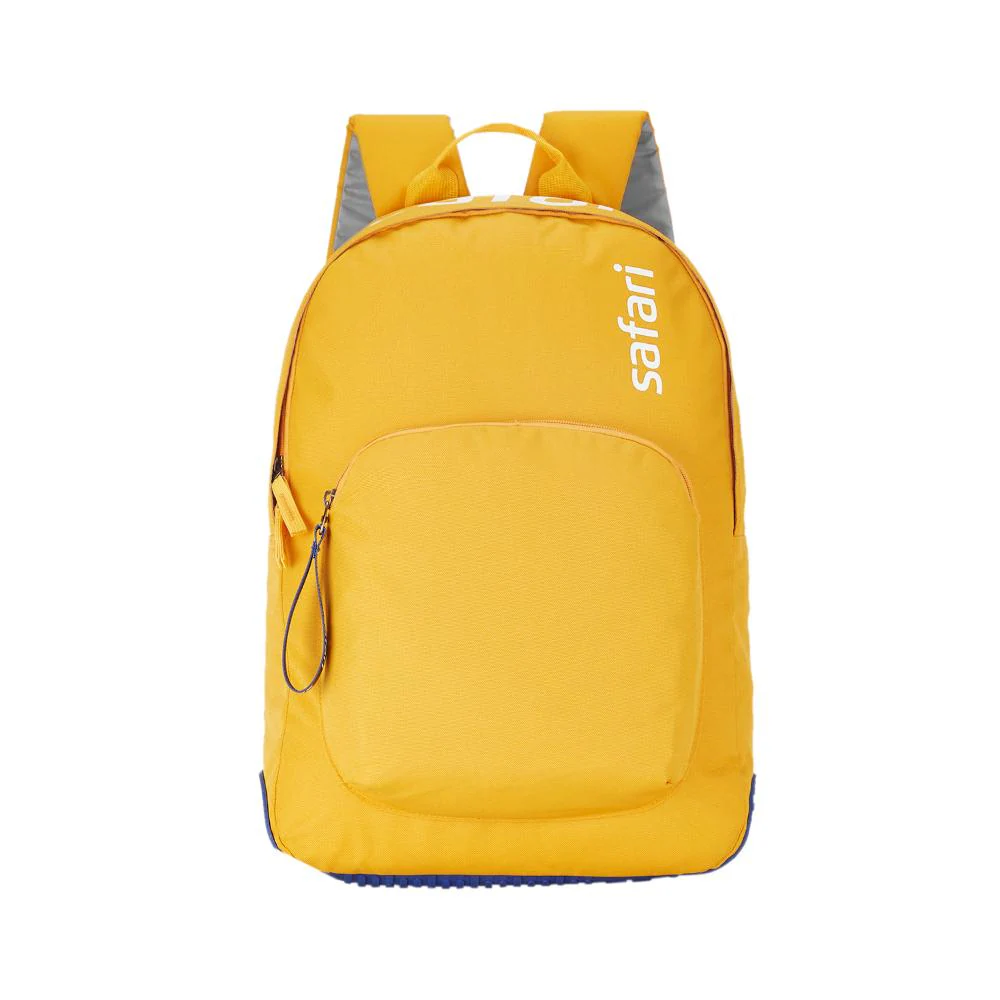backpack: (259, 111, 756, 885)
